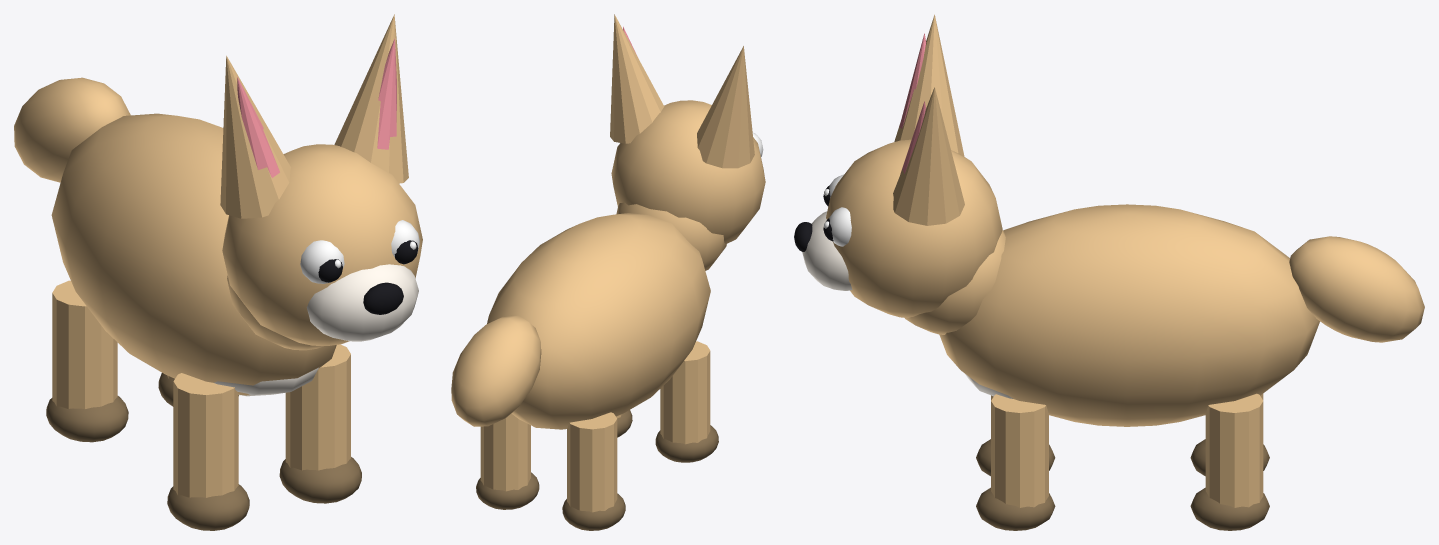
The picture shows the model from 3 angles, left to right: view 1: azimuth 30°, elevation 25°; view 2: azimuth 150°, elevation 25°; view 3: azimuth 270°, elevation 25°; orthographic projection. The views are drawn at different scales.
Visible parts, largest first — view 1: Fennec Fox; view 2: Fennec Fox; view 3: Fennec Fox.
Boxes of the visible parts, x1=… form: Fennec Fox: x1=14, y1=14, x2=422, y2=530; Fennec Fox: x1=451, y1=14, x2=765, y2=530; Fennec Fox: x1=794, y1=14, x2=1424, y2=530.
Bounding box in the file's own units: 1.44 × 3.45 × 4.37.
Materials: 1 (1 with a texture image).
